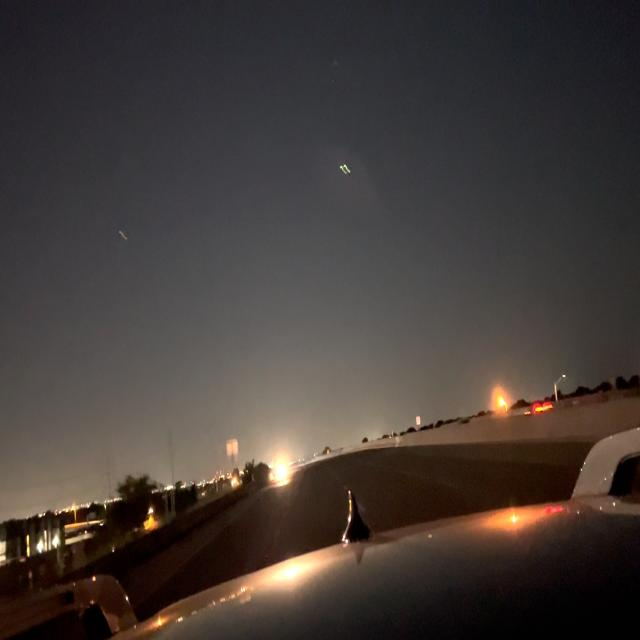back-of-sign: (226, 438, 238, 463)
